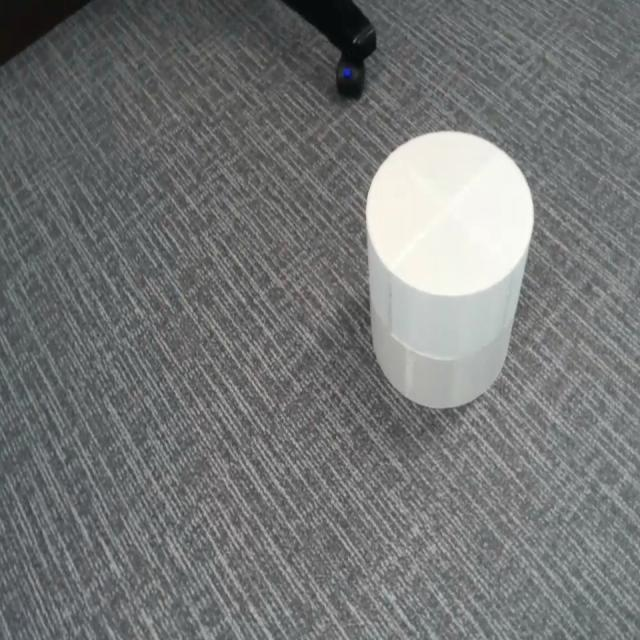cylinder: (365, 129, 535, 409)
